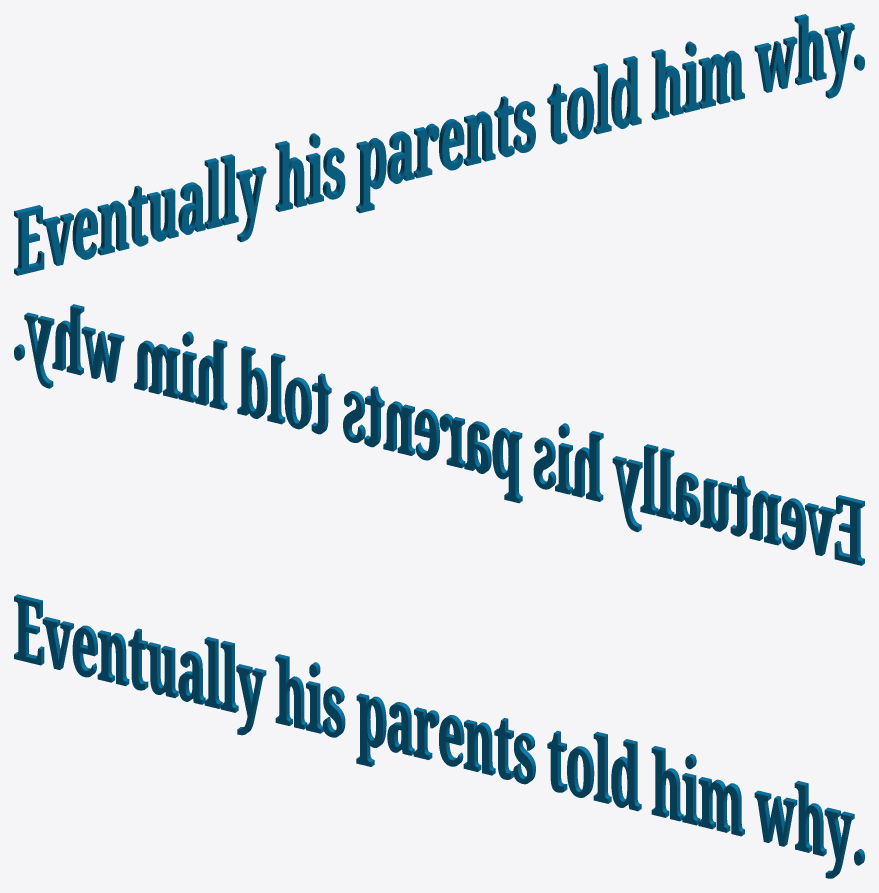
The model's file is tinker.obj.
3 views of the same model, one above another, from view 1: azimuth 30°, elevation 25°; view 2: azimuth 150°, elevation 25°; view 3: azimuth 330°, elevation 25° (orthographic).
Parts seen in each view (by area): view 1: obj_0; view 2: obj_0; view 3: obj_0.
Part boxes in pixels (<box>): obj_0: <box>14,14,864,275</box>; obj_0: <box>14,304,864,565</box>; obj_0: <box>14,594,864,878</box>.
Size of the model in its own units: 362 by 36 by 2.53.
